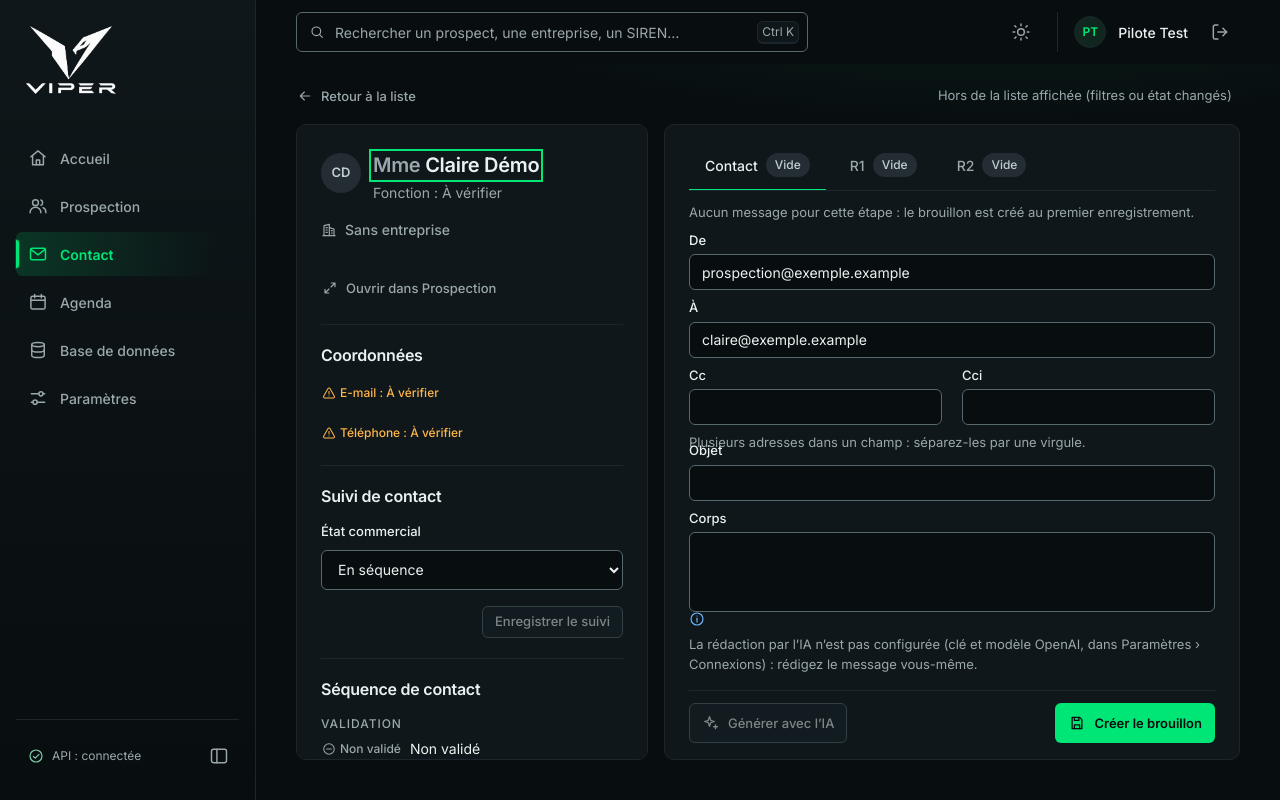
Scenario: AI drafting in the mail editor › « Créer le brouillon » with nothing written and no AI creates nothing and says what to do
The width and height of the screenshot is (1280, 800).
Click the button "Créer le brouillon". click: point(1135, 723)
box: [1055,703,1215,743]
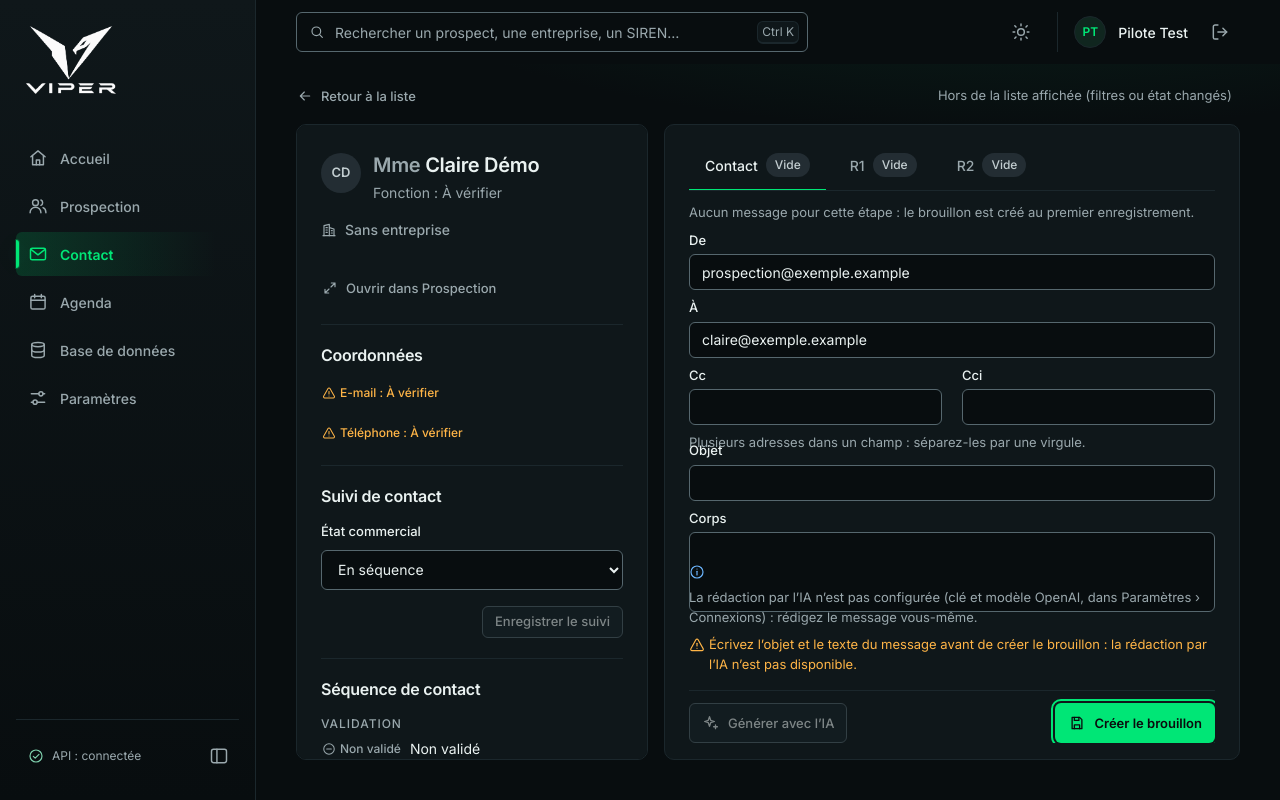
Check: the text "Écrivez l’objet et le texte du message" is shown, box [709,636,1207,672]
